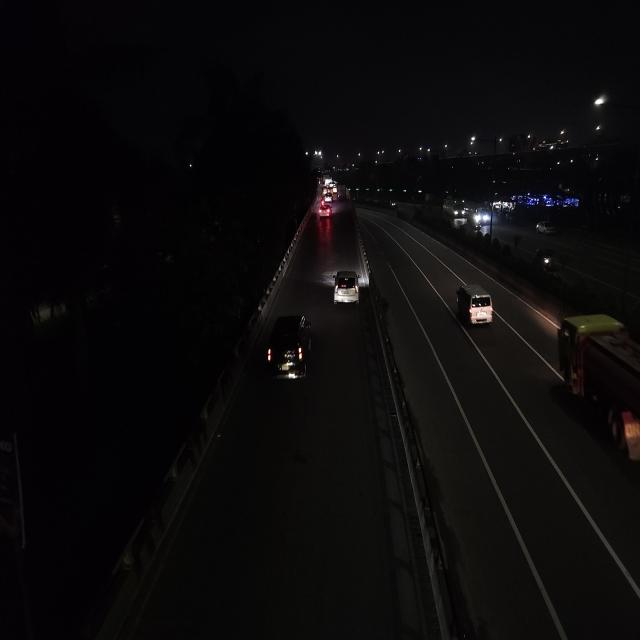bus: (443, 199, 467, 220), (471, 204, 491, 227)
car: (264, 311, 314, 391), (454, 282, 495, 331), (332, 268, 361, 310), (534, 219, 558, 237), (318, 201, 334, 220)
cng: (534, 246, 558, 276)
motorcycle: (534, 246, 558, 276)
truck: (555, 310, 640, 478), (555, 311, 640, 477)
